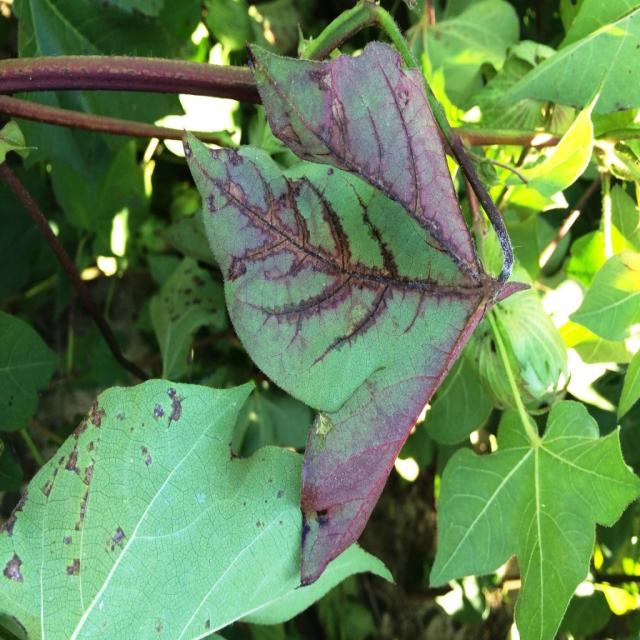Bacterial Blight: (211, 156, 516, 374)
